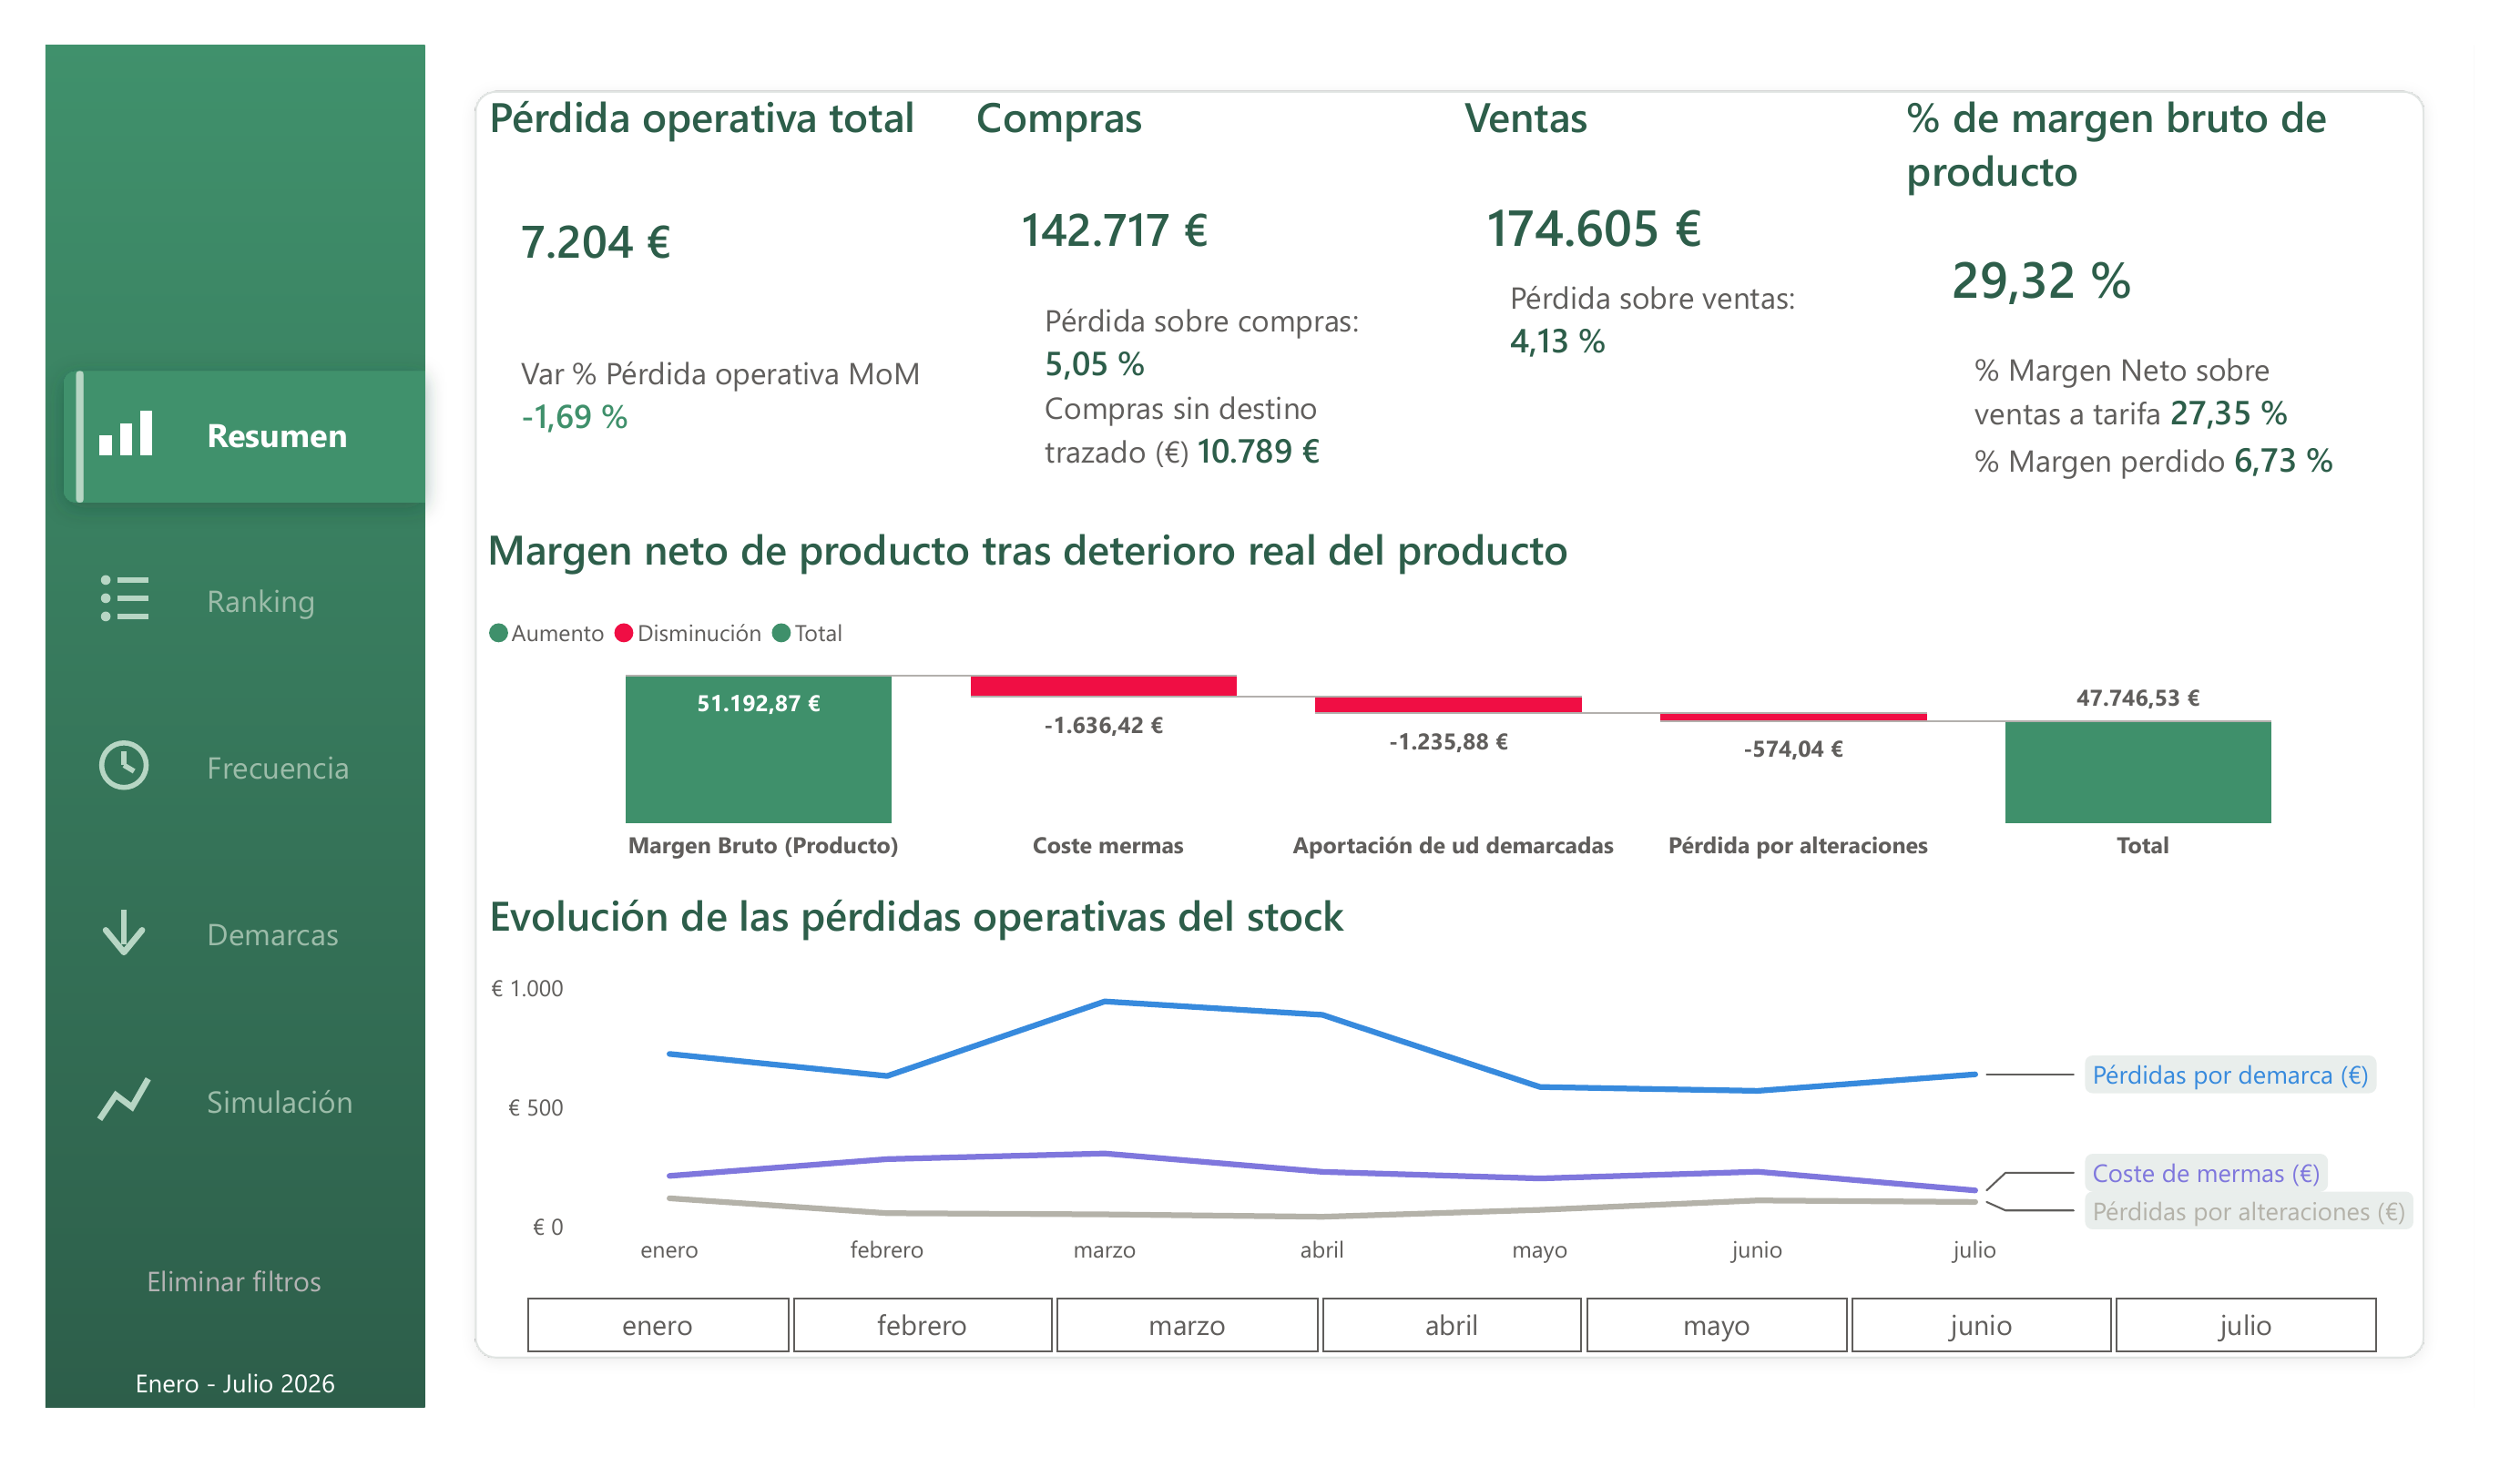

The page's visual inventory and layout, read from the dashboard file:
{"tool":"powerbi","page":{"name":"Resumen","canvas":[1280,720],"ordinal":0},"visuals":[{"type":"cardVisual","title":"Pérdida operativa total","fields":{"Data":["_Medidas_ImpactoEconómico.Impacto económico total (€)"]},"box":[229,23,258,228],"z":0},{"type":"cardVisual","title":"Compras","fields":{"Data":["_Medidas_Resumen.Compras"]},"box":[486.2,22.5,253.8,228.8],"z":1000},{"type":"actionButton","box":[0,168.6,200,72.9],"z":2000},{"type":"actionButton","box":[0,267.1,200,52.9],"z":3000},{"type":"actionButton","box":[0,440,200,51.4],"z":4000},{"type":"actionButton","box":[0,355.7,200,52.9],"z":5000},{"type":"waterfallChart","title":"Margen neto de producto tras deterioro real del producto","fields":{"Y":["Pasos_Cascada.Valor Cascada"],"Category":["Pasos_Cascada.Paso"]},"box":[227.5,251.2,1028.8,188.8],"z":6000},{"type":"cardVisual","title":"Ventas","fields":{"Data":["_Medidas_Resumen.Ventas"]},"box":[743.1,23.1,237.3,227.8],"z":7000},{"type":"cardVisual","title":"% de margen bruto de producto","fields":{"Data":["_Medidas_Rentabilidad_producto.% Margen bruto del producto"]},"box":[976.3,23.1,276.6,244.1],"z":8000},{"type":"actionButton","box":[0,532.9,200,47.1],"z":9000},{"type":"lineChart","title":"Evolución de las pérdidas operativas del stock","fields":{"Category":["Calendario.Nombre Mes"],"Y":["_Medidas_Pérdidas_Operativas.Pérdidas por demarcas (€)","_Medidas_Pérdidas_Operativas.Coste de mermas (€)","_Medidas_Pérdidas_Operativas.Pérdidas por alteraciones (€)"]},"box":[228.8,443.8,1023.8,208.8],"z":10000},{"type":"textbox","box":[0,688.9,200,31.4],"z":11000},{"type":"slicer","fields":{"Values":["Calendario.Nombre Mes"]},"box":[227.5,652.5,1025,38.8],"z":12000},{"type":"actionButton","box":[23.8,627.5,151.2,45],"z":13000}]}

Visuals, with their boxes on the page's 1280x720 design canvas (x1, y1, x2, y2). These are canvas units, not pixel positions in the 2520x1457 screenshot, which may show the page scaled, cropped or inside an application window:
"Pérdida operativa total" cardVisual: BBox(229, 23, 487, 251)
"Compras" cardVisual: BBox(486, 22, 740, 251)
actionButton: BBox(0, 169, 200, 242)
actionButton: BBox(0, 267, 200, 320)
actionButton: BBox(0, 440, 200, 491)
actionButton: BBox(0, 356, 200, 409)
"Margen neto de producto tras deterioro real del producto" waterfallChart: BBox(228, 251, 1256, 440)
"Ventas" cardVisual: BBox(743, 23, 980, 251)
"% de margen bruto de producto" cardVisual: BBox(976, 23, 1253, 267)
actionButton: BBox(0, 533, 200, 580)
"Evolución de las pérdidas operativas del stock" lineChart: BBox(229, 444, 1253, 653)
textbox: BBox(0, 689, 200, 720)
slicer - Calendario.Nombre Mes: BBox(228, 652, 1252, 691)
actionButton: BBox(24, 628, 175, 672)
